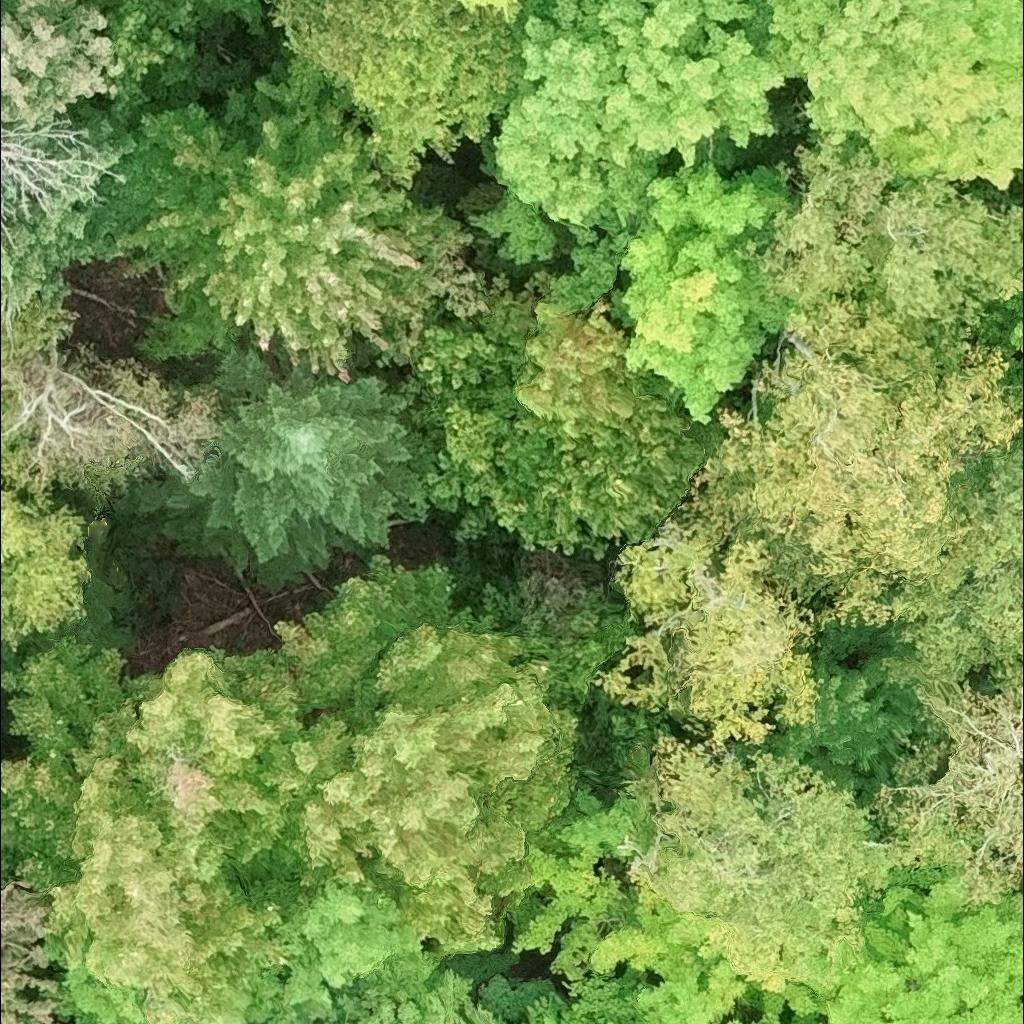crown: (0, 631, 357, 1023), (273, 549, 590, 957), (101, 56, 491, 384), (698, 289, 1023, 630), (111, 341, 429, 594), (625, 731, 909, 995), (590, 471, 828, 762), (395, 368, 723, 562), (756, 137, 1023, 346), (742, 0, 1023, 192), (609, 157, 798, 423), (273, 0, 525, 195), (867, 663, 1023, 909), (783, 867, 1023, 1023), (882, 433, 1023, 682), (586, 888, 824, 1023), (256, 872, 423, 1023), (0, 389, 95, 651), (509, 293, 641, 439), (0, 0, 132, 134), (407, 274, 535, 398), (322, 949, 516, 1023), (101, 0, 204, 129), (0, 845, 72, 1023), (515, 965, 719, 1023), (42, 931, 155, 1023), (215, 974, 283, 1023), (975, 293, 1023, 358), (451, 0, 527, 20), (755, 1012, 785, 1023), (716, 1020, 754, 1023), (263, 0, 273, 11)
